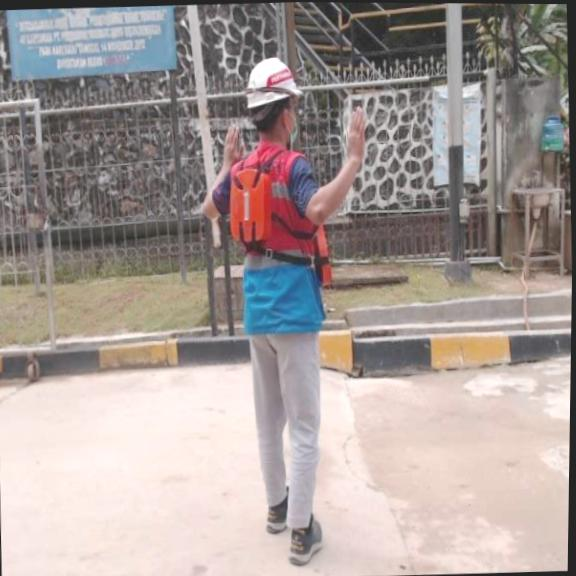safety_vest: (225, 160, 276, 248)
